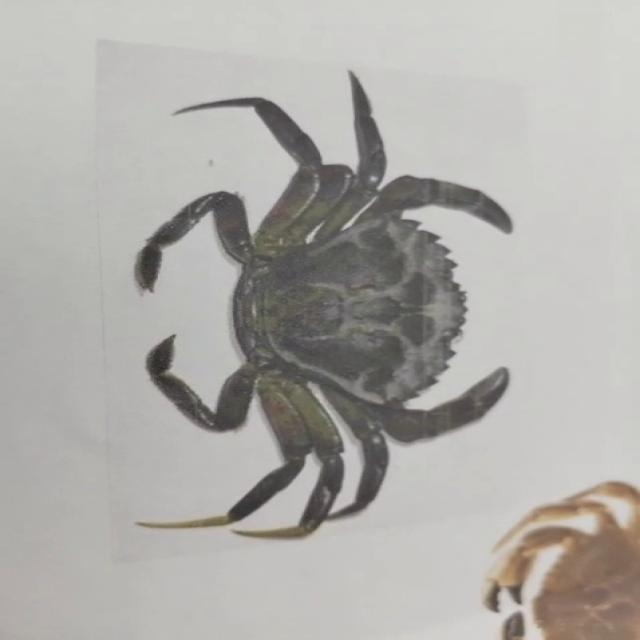egc: (137, 72, 509, 538)
